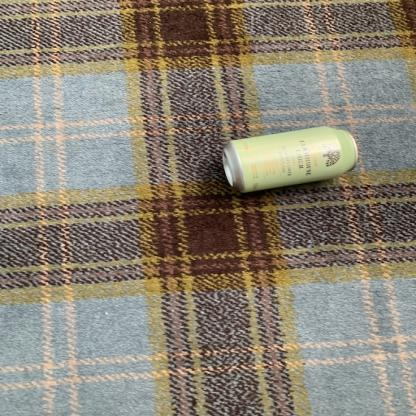trash: (218, 126, 362, 193)
